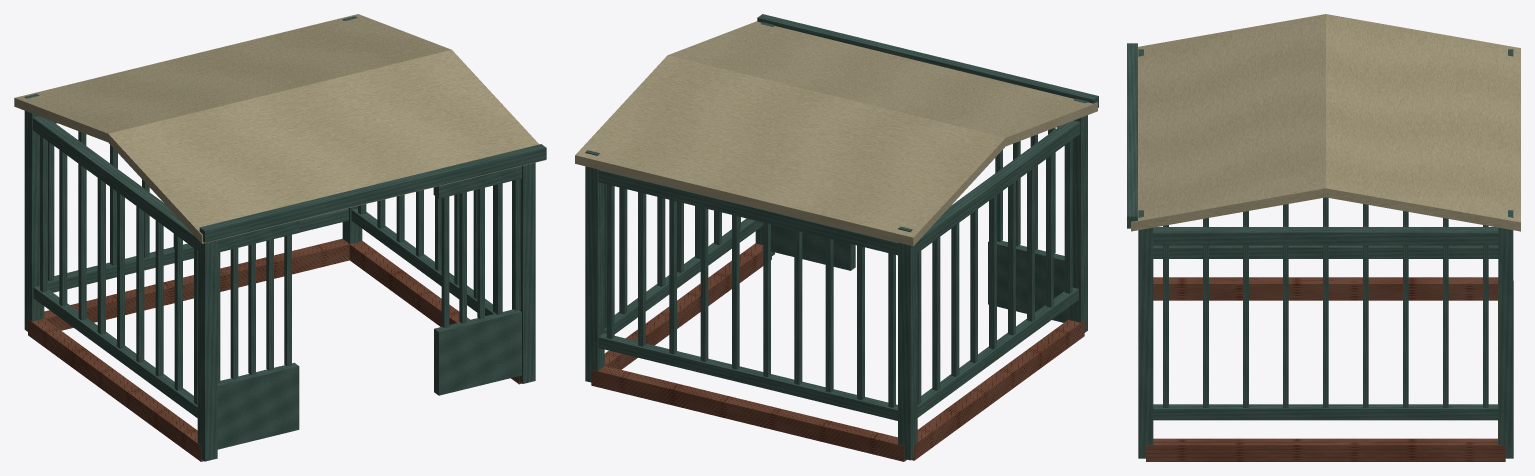
3 renders of one model, left to right at view 1: azimuth 30°, elevation 25°; view 2: azimuth 150°, elevation 25°; view 3: azimuth 270°, elevation 25°, orthographic. The views are drawn at different scales.
Visible parts, largest first — view 1: garrison_part_0001, garrison_part_0000; view 2: garrison_part_0001, garrison_part_0000; view 3: garrison_part_0001, garrison_part_0000.
Boxes of the visible parts, x1,y1,x2,y2 form: garrison_part_0001: (14,14,546,461); garrison_part_0000: (28,238,521,461); garrison_part_0001: (575,14,1098,460); garrison_part_0000: (591,243,1084,461); garrison_part_0001: (1127,14,1520,458); garrison_part_0000: (1146,277,1513,461).
Size of the model in its own units: 493 by 365 by 470.
